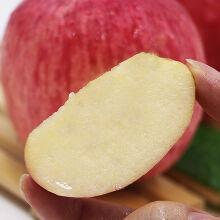apple: (1, 1, 206, 184), (24, 51, 197, 199)
